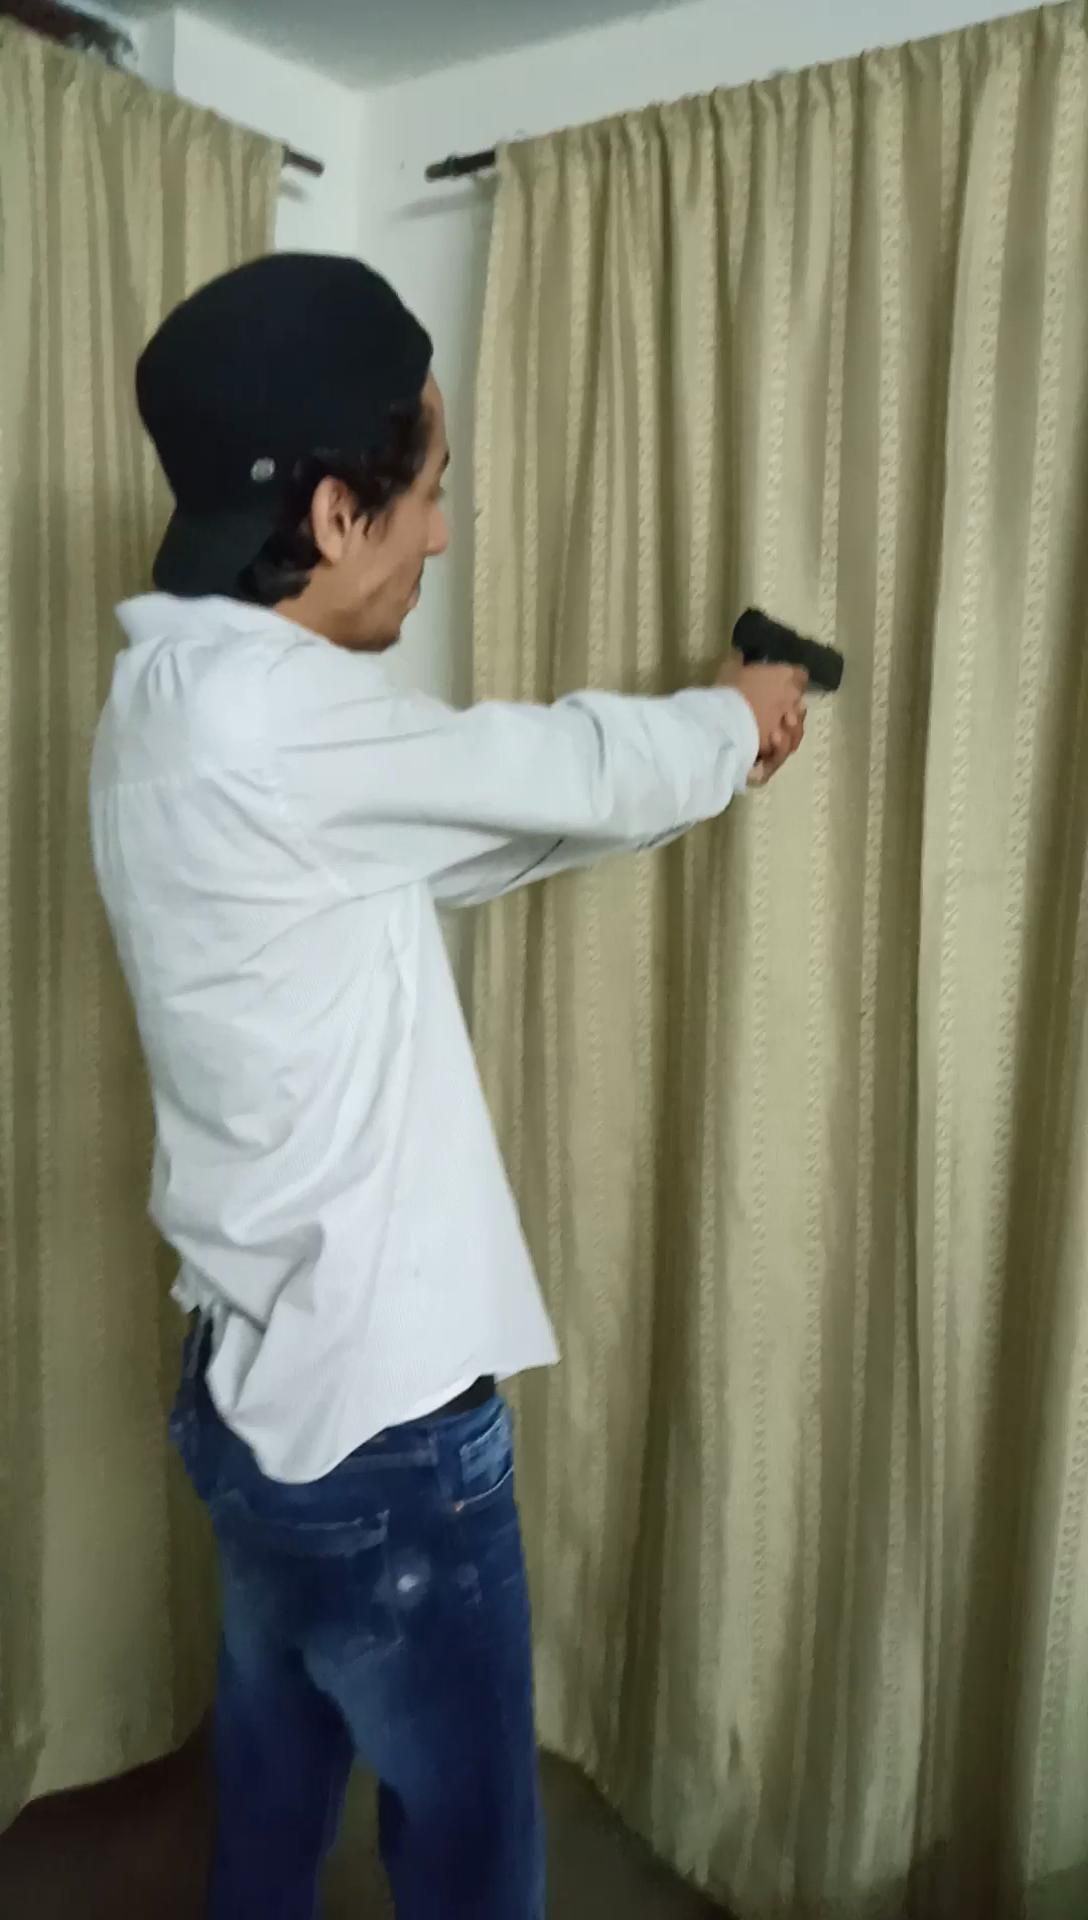criminal: (88, 236, 866, 1920)
weapon: (727, 591, 866, 775)
